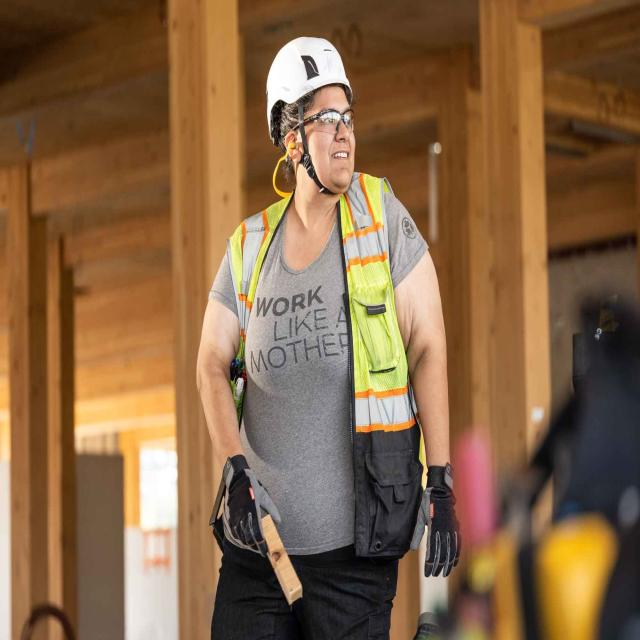helmet: (262, 34, 355, 118)
no-goggles: (297, 106, 358, 135)
vest: (229, 174, 419, 551)
